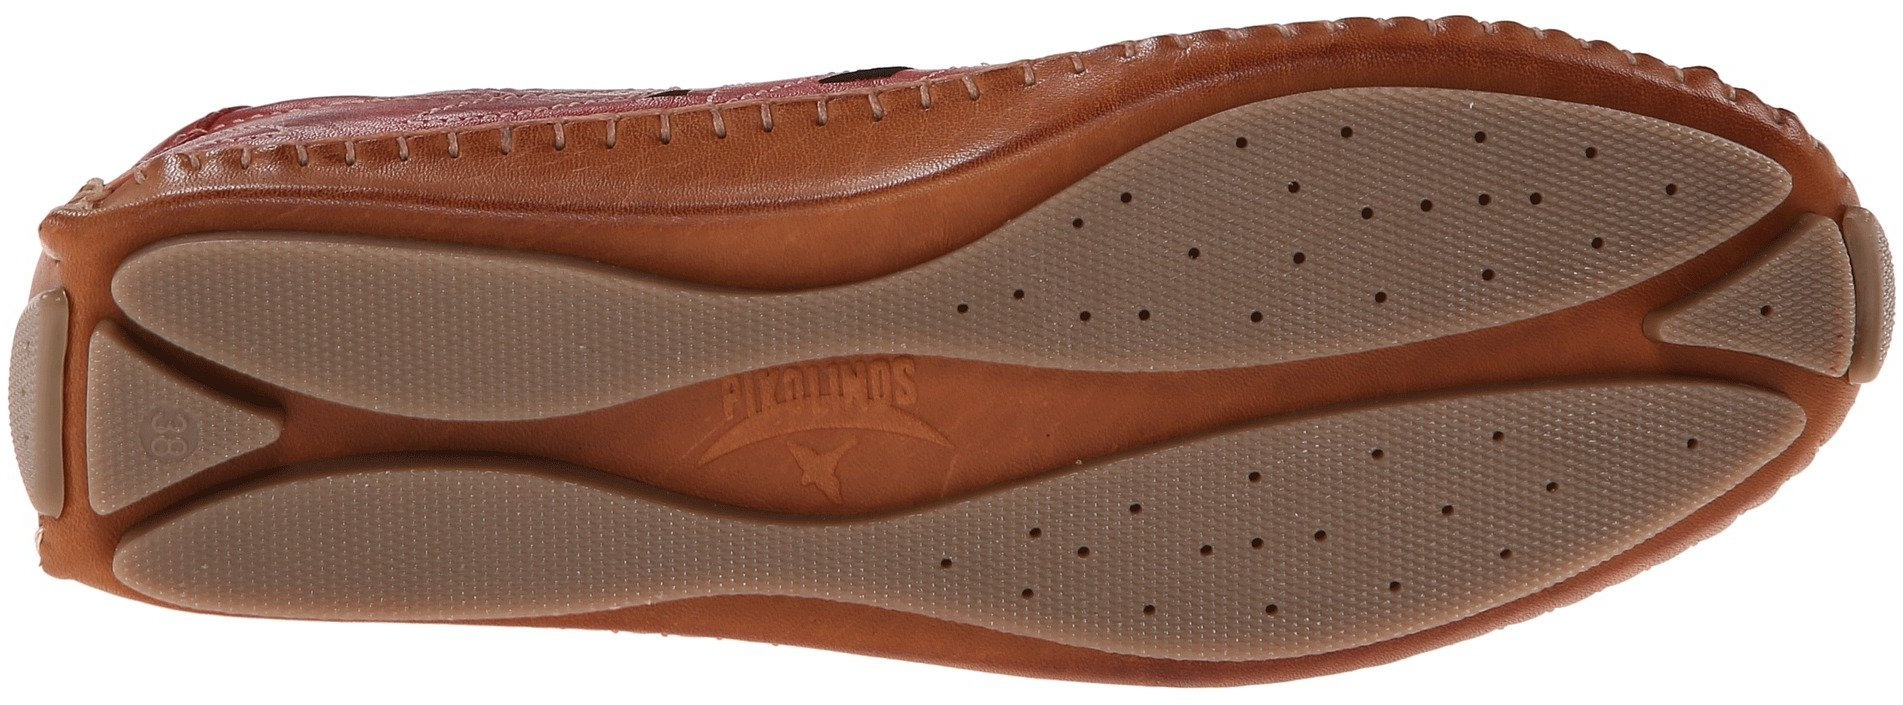circle: (1115, 436, 1351, 652), (79, 319, 290, 527), (989, 231, 1127, 359), (981, 500, 1119, 625), (130, 398, 201, 468)
exclude: (1, 224, 80, 592)
other: (299, 250, 458, 402), (319, 473, 464, 605), (456, 280, 592, 399), (475, 490, 591, 602)
text: (79, 319, 290, 527), (720, 363, 810, 442), (130, 398, 201, 468), (803, 358, 871, 421), (865, 352, 930, 415), (143, 405, 195, 457)
triangle: (79, 319, 290, 527), (1636, 207, 1827, 397)
